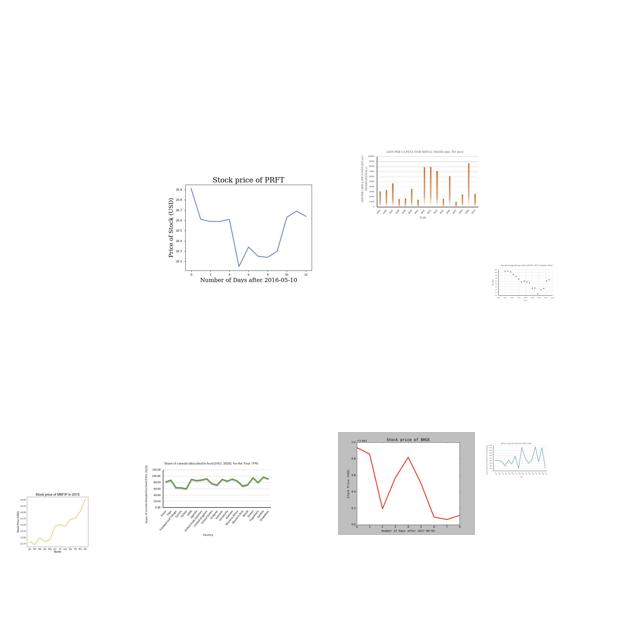Graph: (165, 171, 328, 283), (338, 432, 475, 535), (142, 461, 273, 538), (360, 149, 480, 220), (13, 489, 100, 554), (490, 263, 555, 302), (485, 442, 548, 478)
